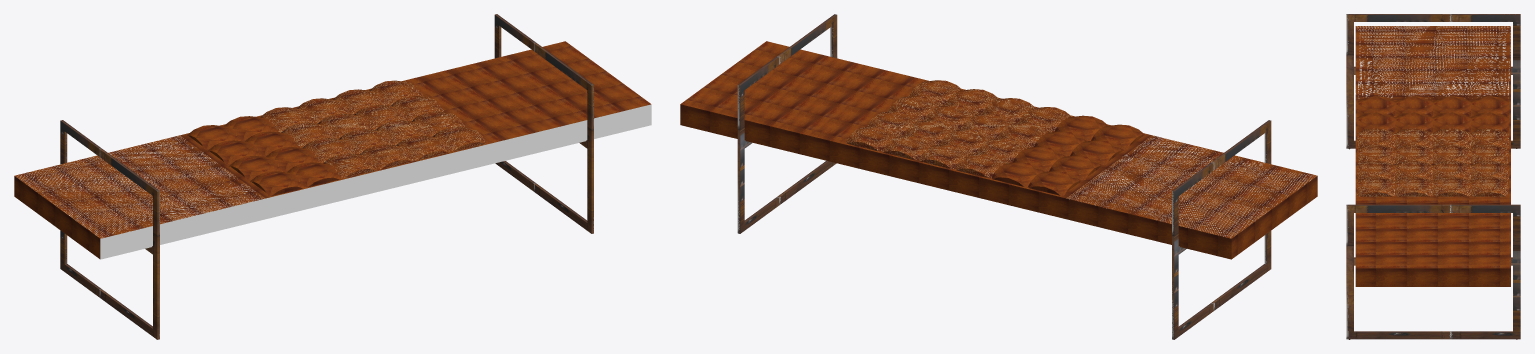
3 views of the same model, side by side, from view 1: azimuth 30°, elevation 25°; view 2: azimuth 150°, elevation 25°; view 3: azimuth 270°, elevation 25° (orthographic). The views are drawn at different scales.
Parts seen in each view (by area): view 1: mesh21_mesh21-geometry, mesh12_mesh12-geometry, mesh1_mesh1-geometry, mesh13_mesh13-geometry, mesh3_mesh3-geometry, mesh6_mesh6-geometry; view 2: mesh12_mesh12-geometry, mesh21_mesh21-geometry, mesh1_mesh1-geometry, mesh13_mesh13-geometry, mesh3_mesh3-geometry; view 3: mesh12_mesh12-geometry, mesh21_mesh21-geometry, mesh1_mesh1-geometry, mesh13_mesh13-geometry, mesh3_mesh3-geometry, mesh6_mesh6-geometry.
Boxes of the visible parts, x1,y1,x2,y2 form: mesh21_mesh21-geometry: [14, 104, 651, 259]; mesh12_mesh12-geometry: [14, 41, 650, 258]; mesh1_mesh1-geometry: [260, 80, 486, 178]; mesh13_mesh13-geometry: [60, 14, 593, 339]; mesh3_mesh3-geometry: [187, 116, 340, 196]; mesh6_mesh6-geometry: [345, 142, 484, 178]; mesh12_mesh12-geometry: [680, 41, 1317, 259]; mesh21_mesh21-geometry: [1066, 135, 1316, 238]; mesh1_mesh1-geometry: [846, 80, 1071, 177]; mesh13_mesh13-geometry: [737, 14, 1271, 339]; mesh3_mesh3-geometry: [991, 115, 1145, 195]; mesh12_mesh12-geometry: [1355, 98, 1510, 286]; mesh21_mesh21-geometry: [1355, 26, 1510, 98]; mesh1_mesh1-geometry: [1357, 128, 1508, 196]; mesh13_mesh13-geometry: [1346, 14, 1520, 339]; mesh3_mesh3-geometry: [1357, 96, 1508, 132]; mesh6_mesh6-geometry: [1360, 192, 1505, 196].
Bounding box in the file's own units: 0.9286 × 0.2402 × 0.283.
